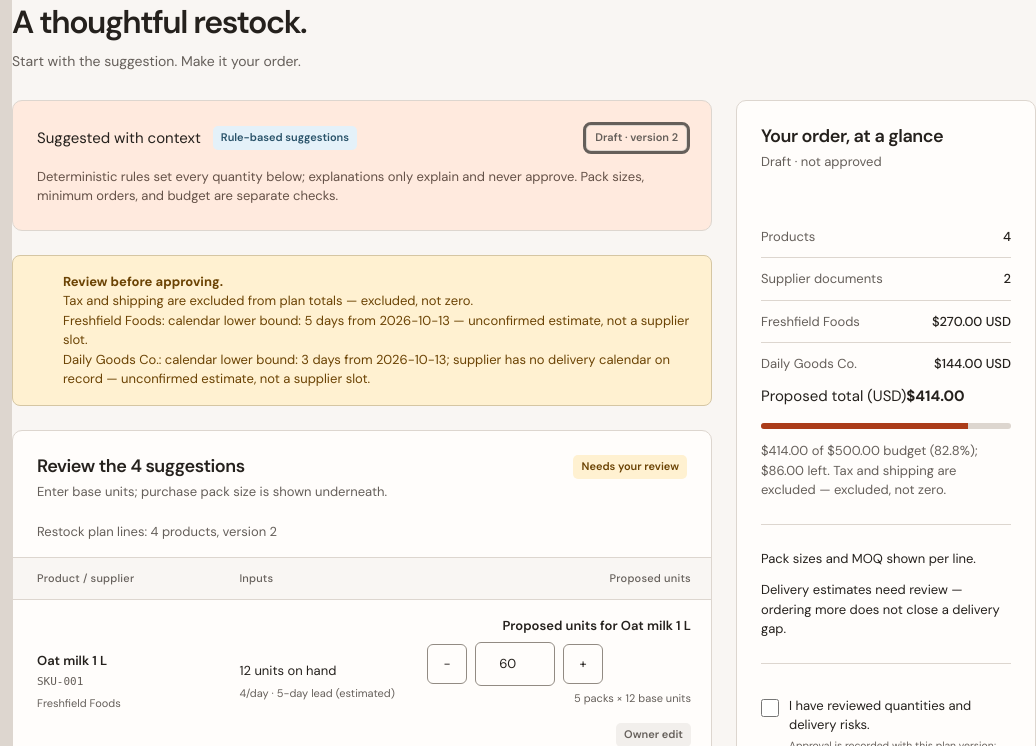
it: reorder studio (live plan) › records an owner approval and links the generated documents
Click the checkbox labelled "I have reviewed quantities and delivery risks".
click(770, 708)  # box left=761, top=699, right=779, bottom=717
(page scrolled)
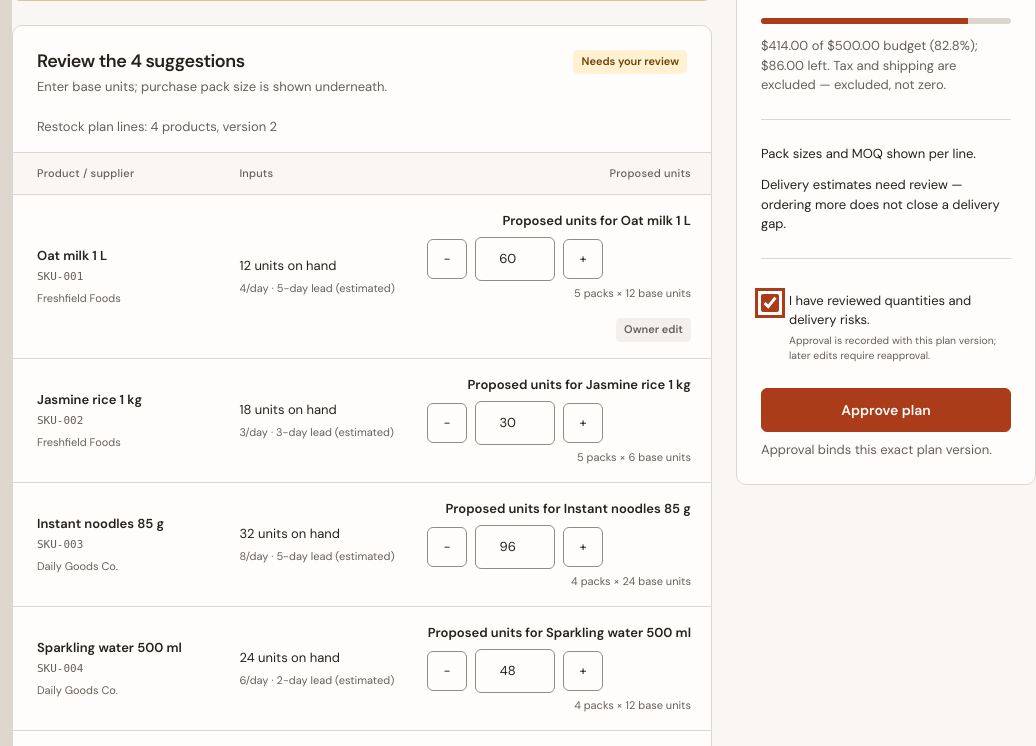
Click the button "Approve plan".
click(886, 410)  # box left=761, top=388, right=1011, bottom=432
(page scrolled)
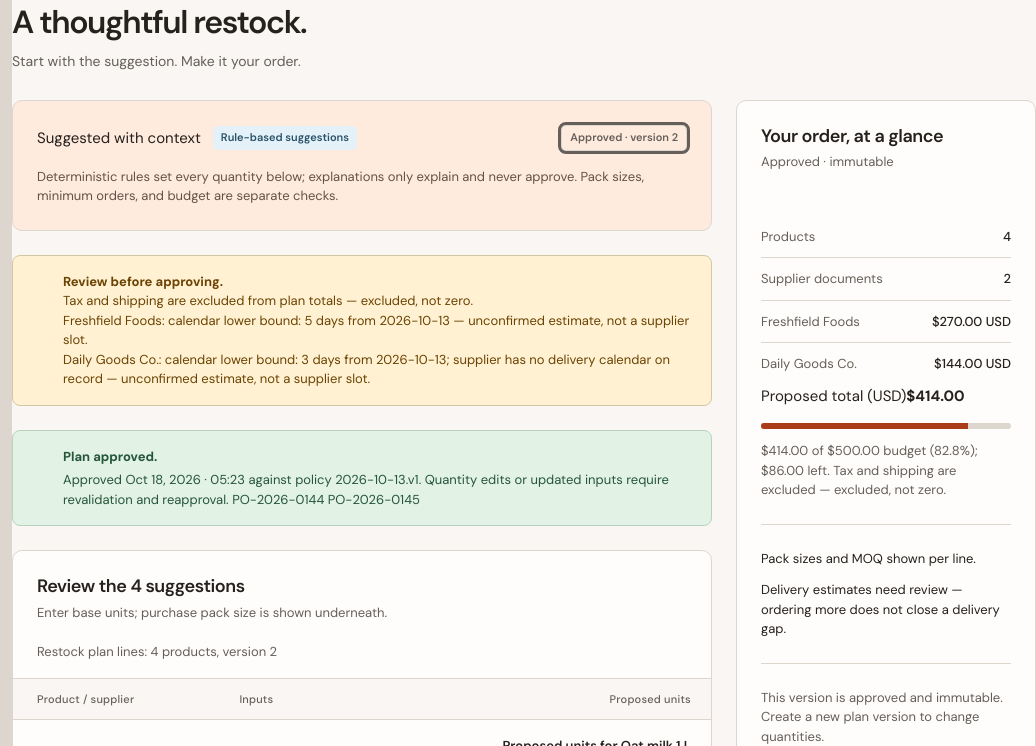
Now the text "Plan approved." is shown, box left=63, top=448, right=157, bottom=465
Now the link "PO-2026-0144" is shown, box left=232, top=491, right=328, bottom=508
Now the text "Approved · immutable" is shown, box left=761, top=153, right=894, bottom=170
